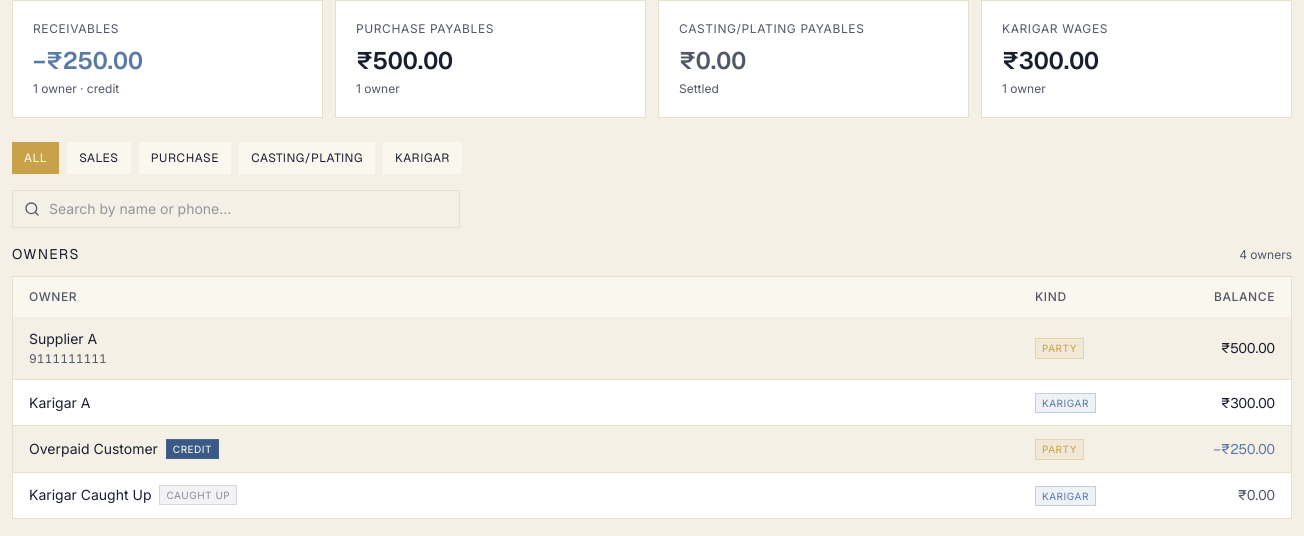
it: LedgerClient — category tabs (Phase 21c.1.1) › clicking Sales tab filters to receivables owners only
The image size is (1304, 536).
Click the radio button with test id "ledger-tab" showing "Sales".
click(99, 158)  # box x1=67 y1=142 x2=131 y2=174
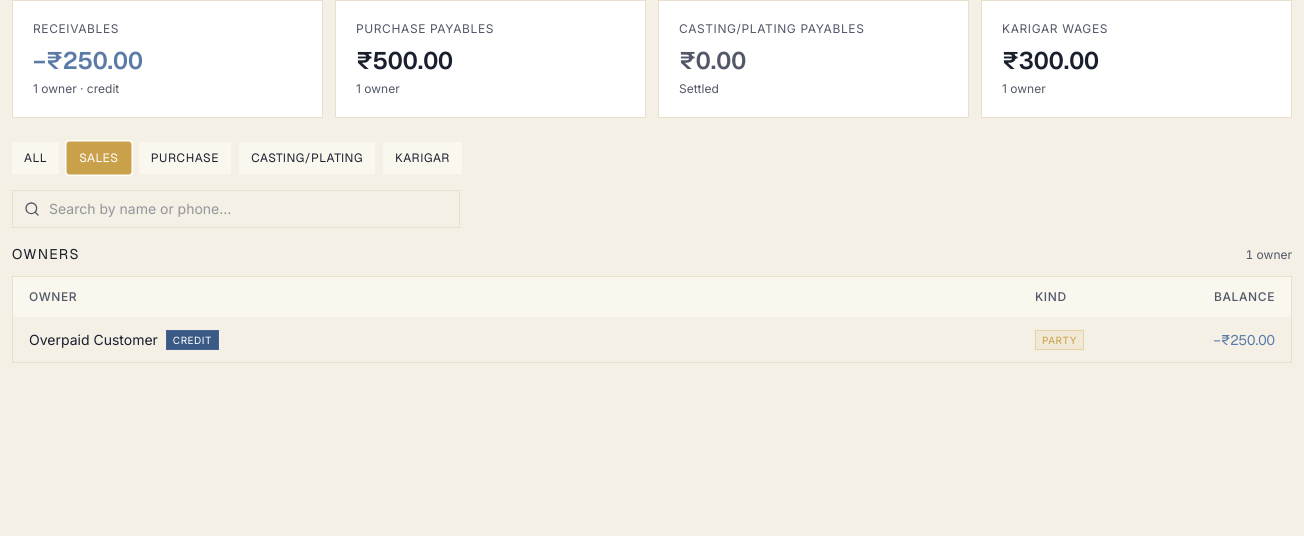
Expected: the number of rows with test id "ledger-owner-row" is 1, x1=13 y1=317 x2=1291 y2=362
